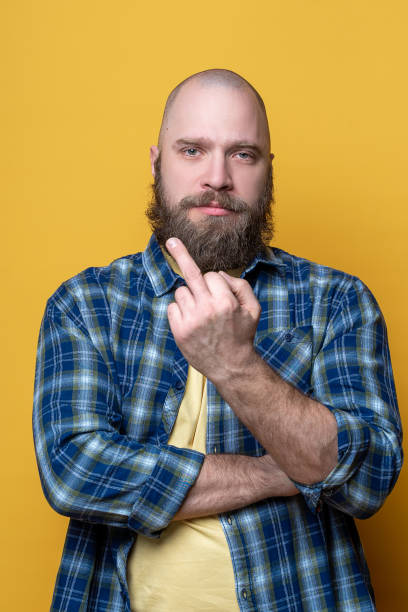insulting_gesture: (162, 234, 263, 378)
